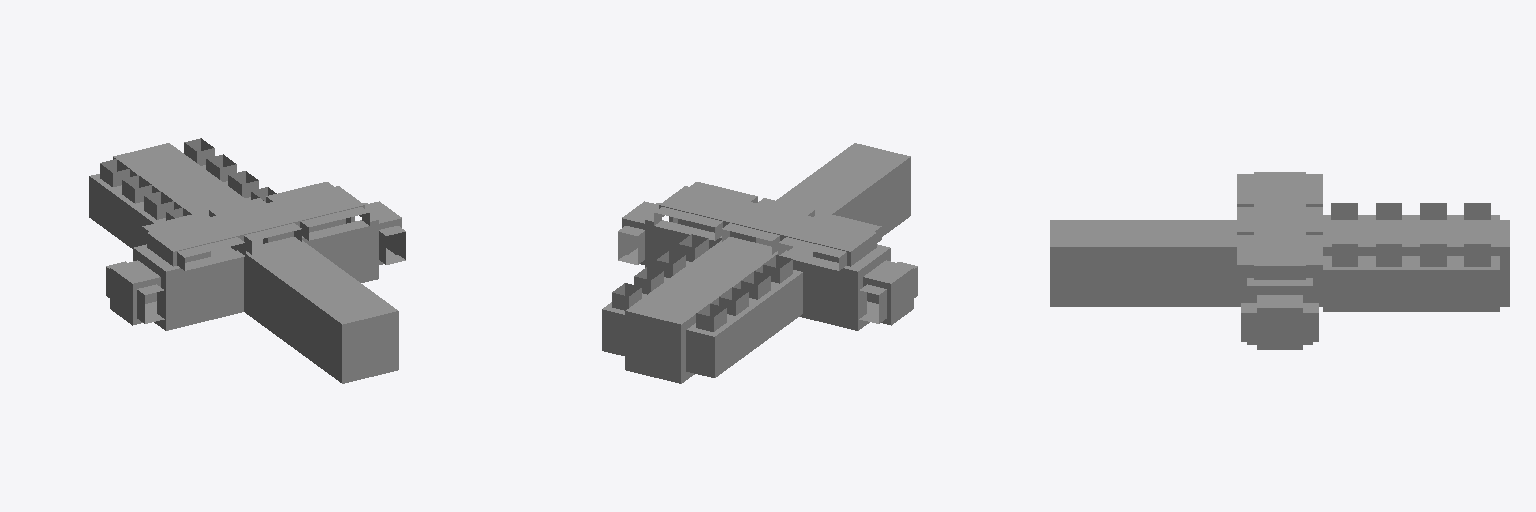
Rendered from galleria.obj.
3 renders of one model, left to right at view 1: azimuth 30°, elevation 25°; view 2: azimuth 150°, elevation 25°; view 3: azimuth 270°, elevation 25°, orthographic.
Parts seen in each view (by area): view 1: Piano.020_Piano.029; view 2: Piano.020_Piano.029; view 3: Piano.020_Piano.029.
Part boxes in pixels (bbox=[...]): Piano.020_Piano.029: bbox=[89, 138, 405, 383]; Piano.020_Piano.029: bbox=[602, 143, 917, 383]; Piano.020_Piano.029: bbox=[1050, 172, 1509, 349].
Size of the model in its own units: 19 by 5 by 28.